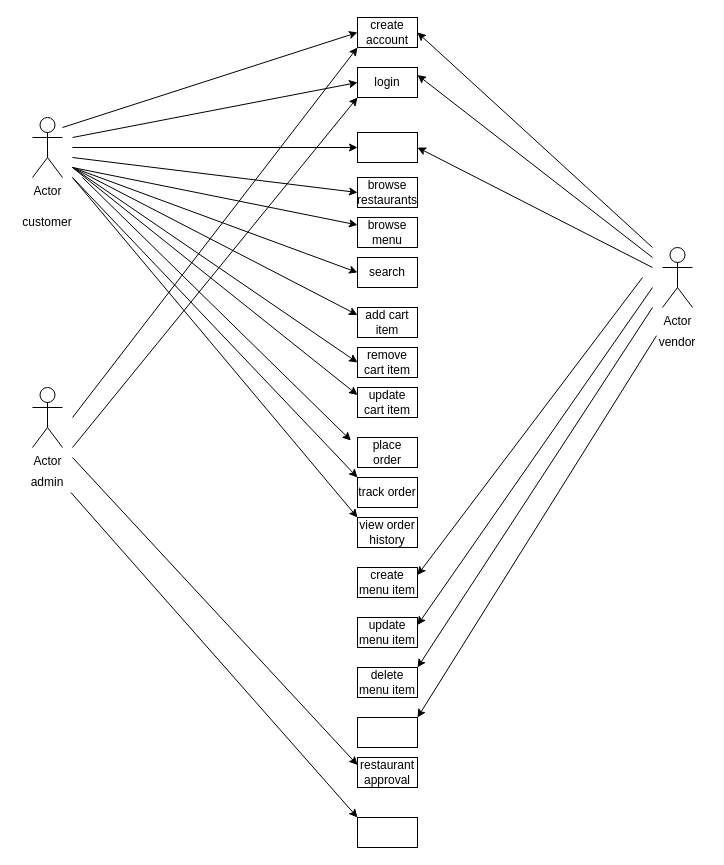
Image size: 724x865. Some labels were removed from this diagram. The centre of each missing label's shape, as x and y in pixels:
"update order status" belongs at point 387,732.
"update profile" belongs at point 387,147.
"user management" belongs at point 387,832.
